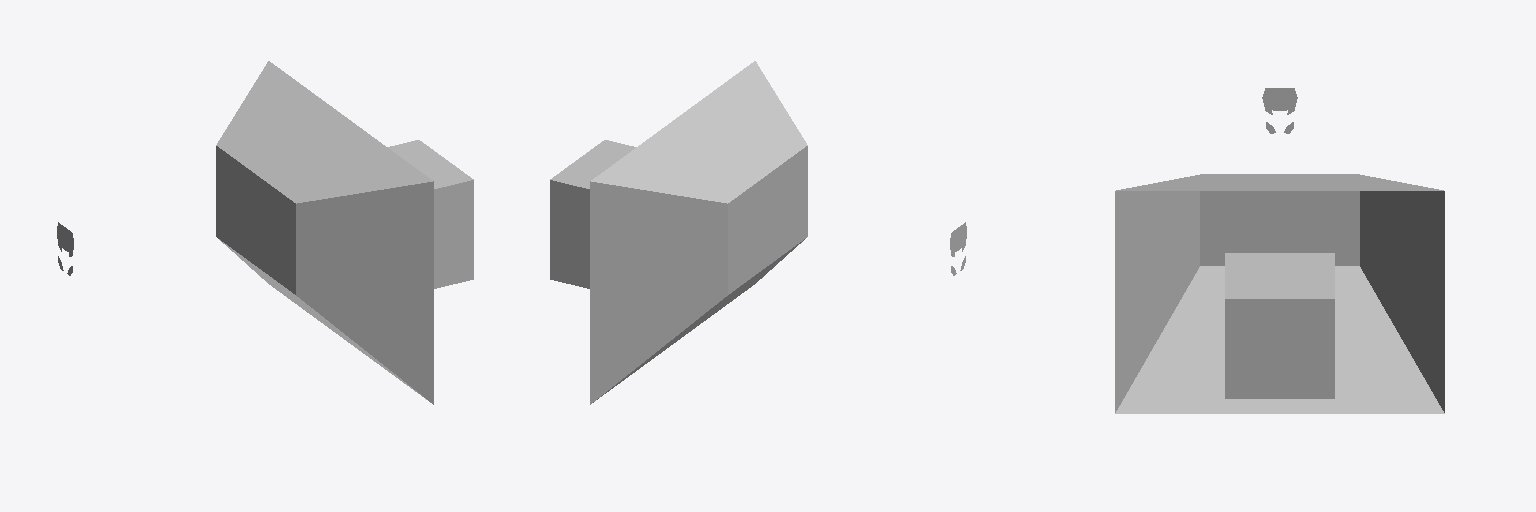
The picture shows the model from 3 angles: view 1: azimuth 30°, elevation 25°; view 2: azimuth 150°, elevation 25°; view 3: azimuth 270°, elevation 25°; orthographic projection.
Visible parts, largest first — view 1: Cube, Cube.001; view 2: Cube, Cube.001; view 3: Cube, Cube.001, sb.
Part boxes in pixels (x1,y1,x2,y2): Cube: (216, 61, 433, 404); Cube.001: (388, 140, 473, 288); Cube: (590, 61, 807, 404); Cube.001: (550, 140, 635, 288); Cube: (1115, 174, 1444, 413); Cube.001: (1225, 253, 1334, 398); sb: (1262, 88, 1297, 133).
Bounding box in the file's own units: 8 × 4.49 × 6.